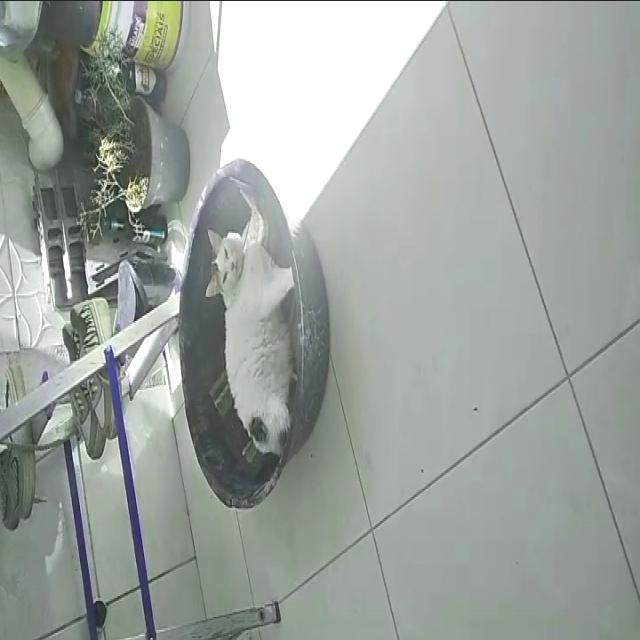Simba: (198, 197, 302, 473)
